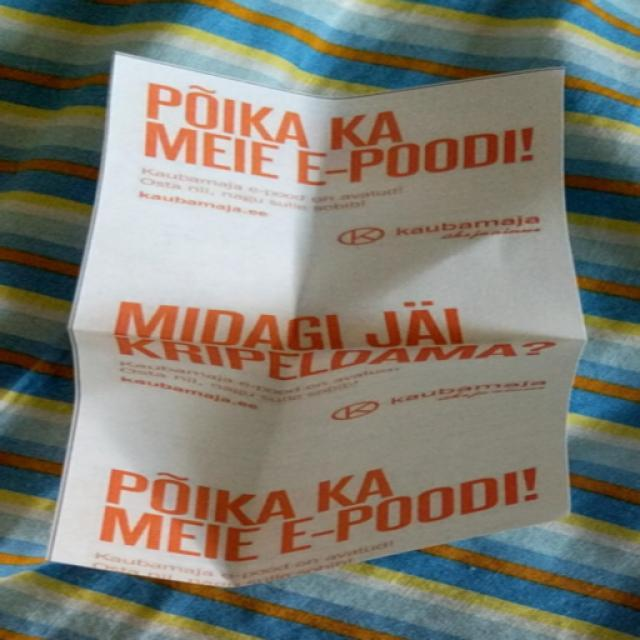document: (49, 54, 585, 586)
